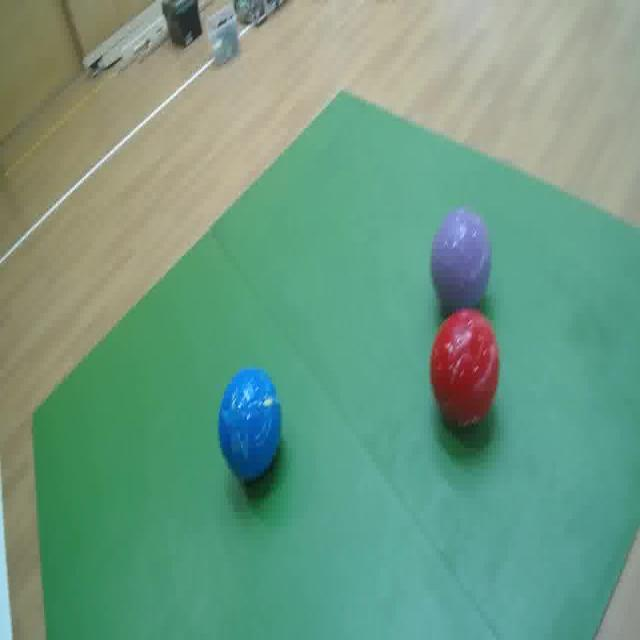blue_ball: (222, 372, 284, 485)
purple_ball: (432, 209, 492, 310)
red_ball: (434, 322, 504, 436)
